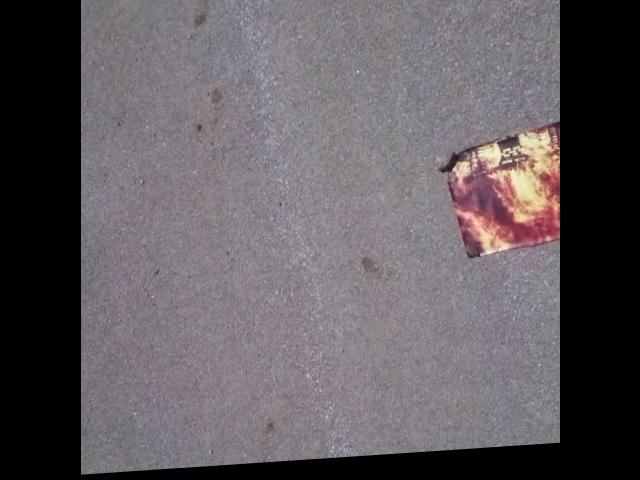fire-poster: (435, 127, 559, 270)
